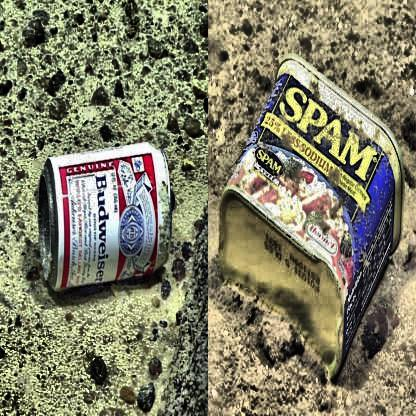Metal wastes: (215, 50, 408, 381), (35, 140, 173, 302)
